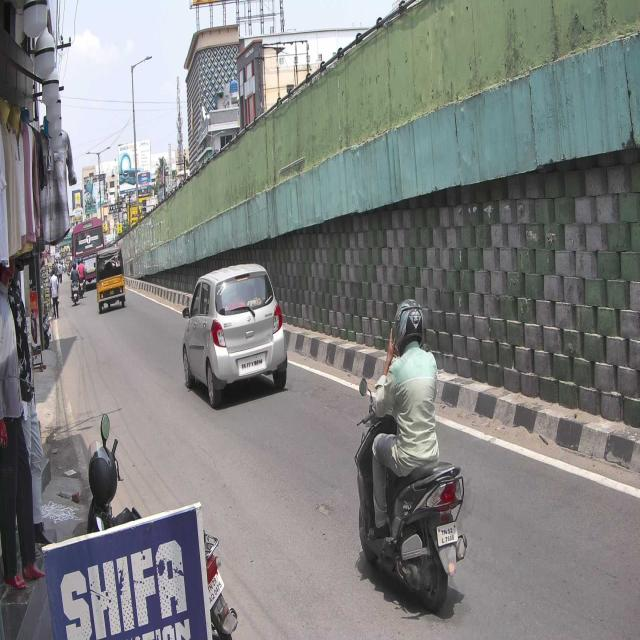single_rider: (354, 298, 467, 610)
